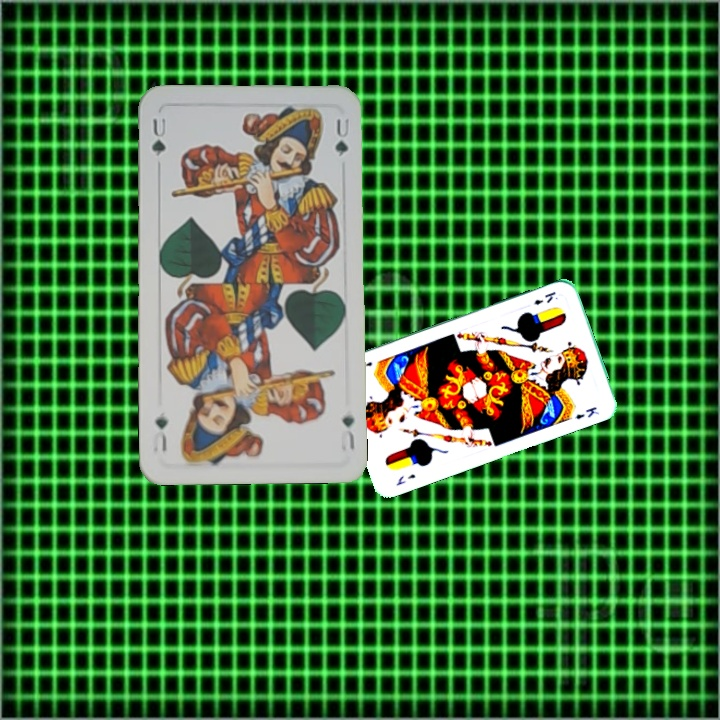EK: (530, 288, 558, 308), (392, 470, 418, 488)
GU: (148, 114, 169, 160), (336, 411, 357, 453)
